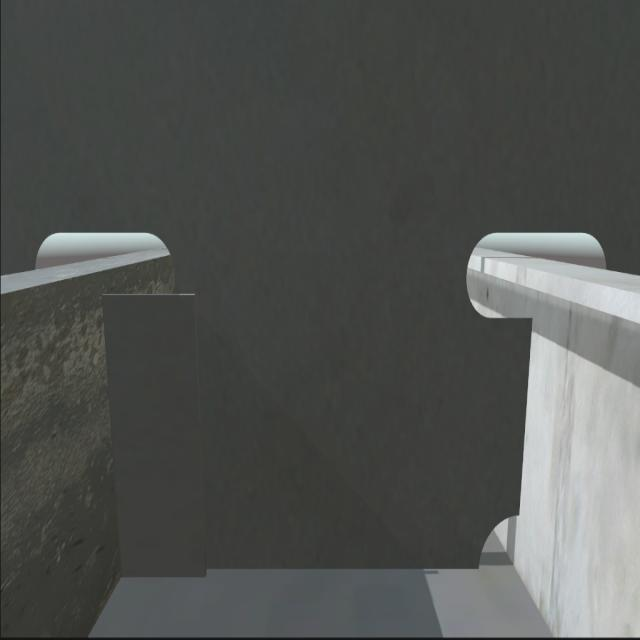fillet_hole: (476, 508, 516, 566)
fillet_yong_jeop_jang: (119, 558, 488, 582)
longi_yong_jeop_jang: (98, 293, 131, 586), (517, 313, 532, 519)
plate_CP01: (102, 293, 210, 577)
